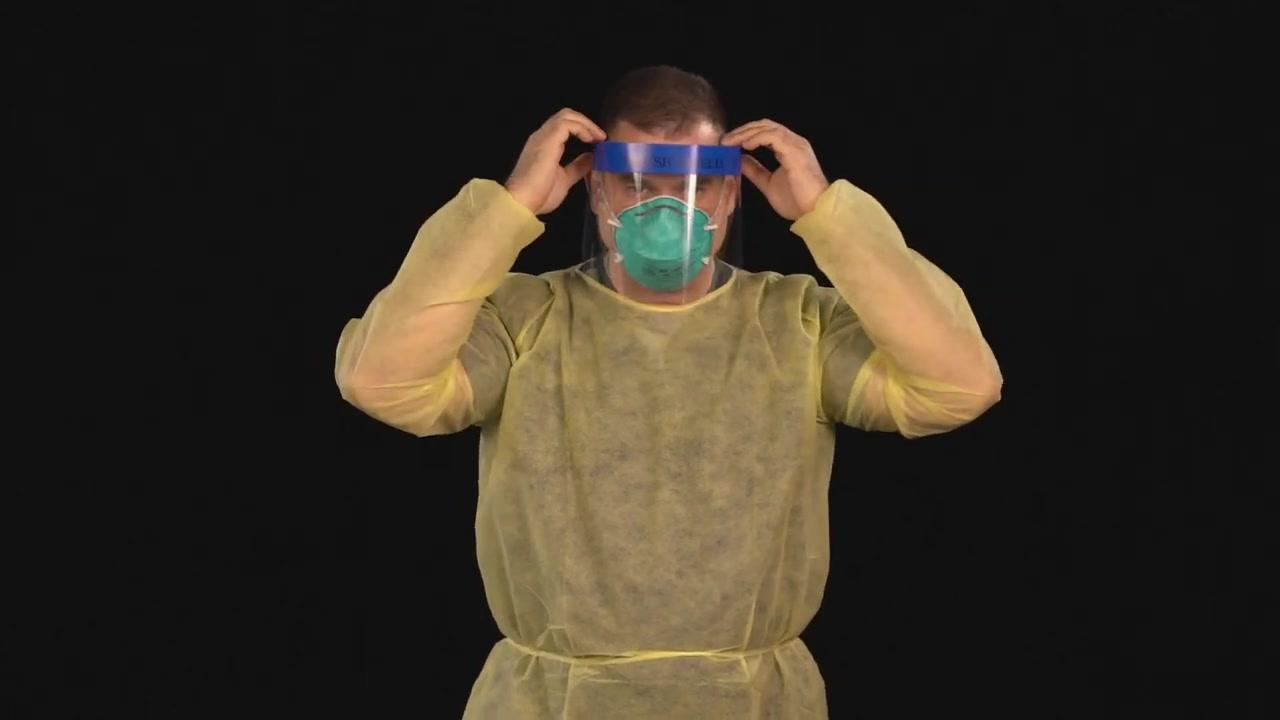Face_Shield: (582, 133, 747, 300)
